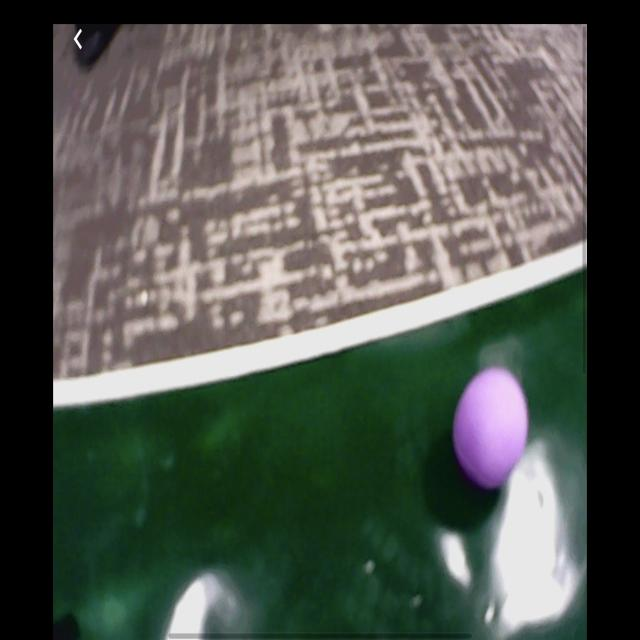ball: (452, 365, 530, 491)
